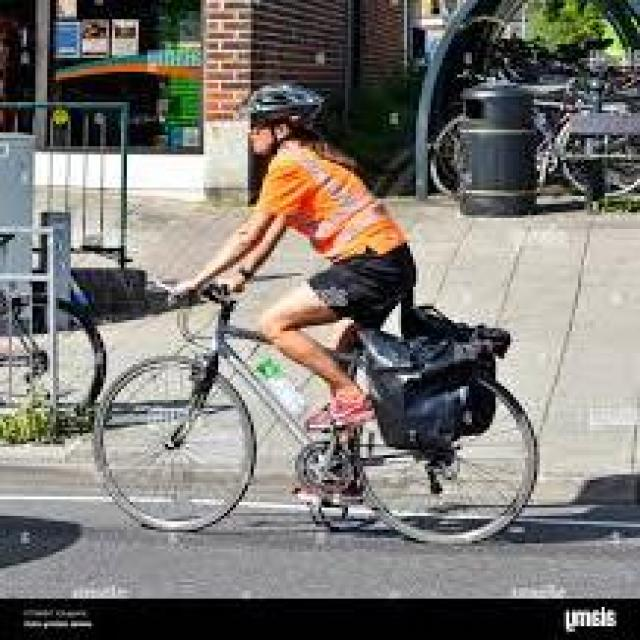Reflective-Jacket: (248, 138, 424, 273)
Safety-Helmet: (221, 72, 336, 138)
